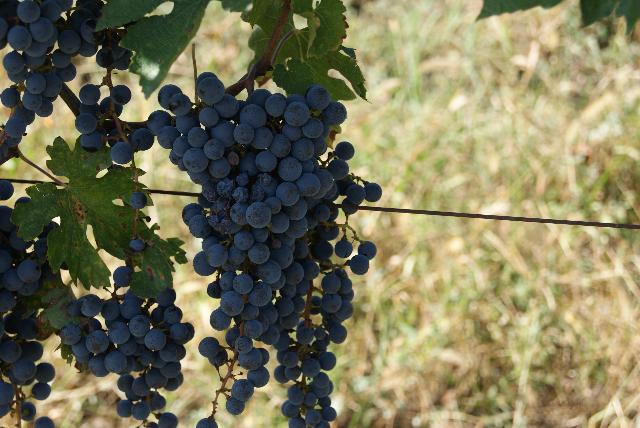grapes: (146, 72, 381, 428), (0, 0, 130, 164), (60, 288, 194, 410), (0, 205, 55, 422), (75, 84, 152, 166)
